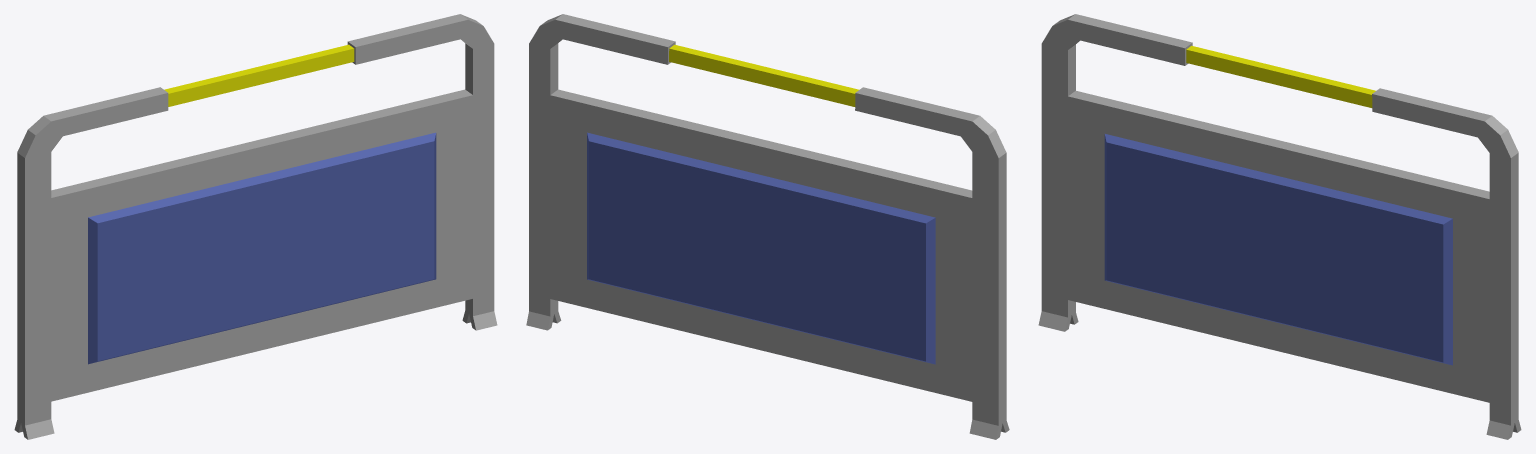
File: barriere.fbx
3 renders of one model, left to right at view 1: azimuth 30°, elevation 25°; view 2: azimuth 150°, elevation 25°; view 3: azimuth 330°, elevation 25°, orthographic.
Visible parts, largest first — view 1: barriere; view 2: barriere; view 3: barriere.
Part boxes in pixels (<box>): barriere: <box>14,14,497,439</box>; barriere: <box>526,14,1009,439</box>; barriere: <box>1038,14,1521,439</box>.
Bounding box in the file's own units: 508 × 321 × 29.21.
